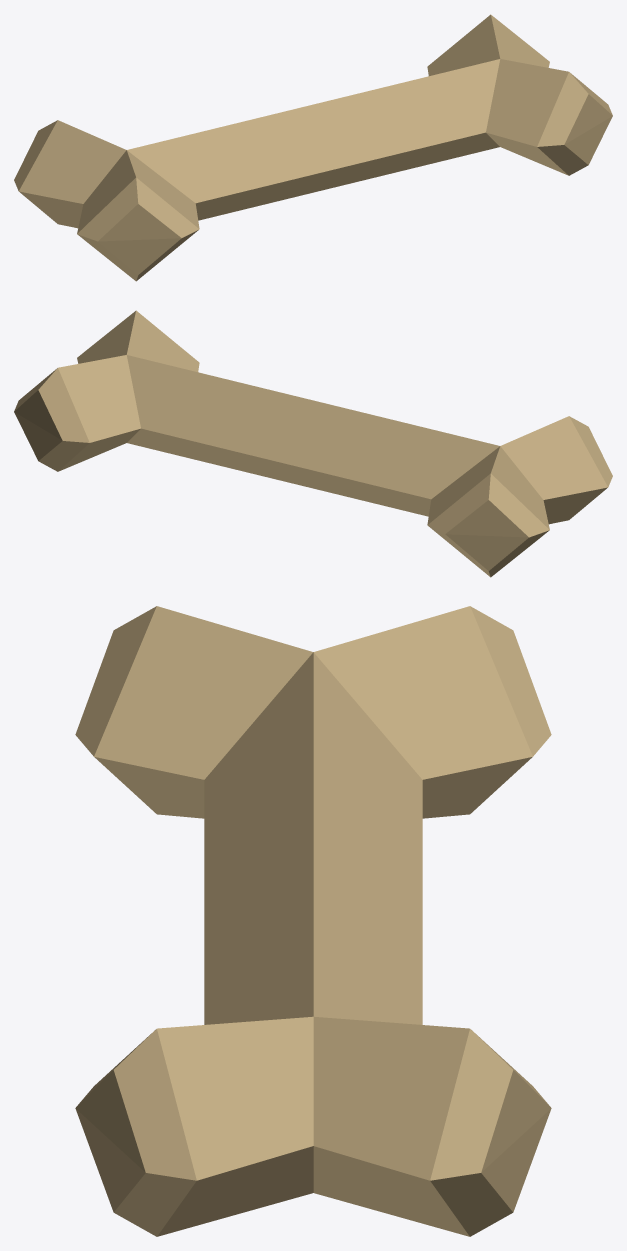
The model's file is Bone.fbx.
3 views of the same model, one above another, from view 1: azimuth 30°, elevation 25°; view 2: azimuth 150°, elevation 25°; view 3: azimuth 270°, elevation 25° (orthographic). The views are drawn at different scales.
Parts seen in each view (by area): view 1: Bone; view 2: Bone; view 3: Bone.
Boxes of the visible parts, x1=… form: Bone: x1=14, y1=14, x2=612, y2=281; Bone: x1=14, y1=310, x2=612, y2=577; Bone: x1=75, y1=606, x2=551, y2=1236.
Size of the model in its own units: 20.52 by 3.85 by 7.96.
